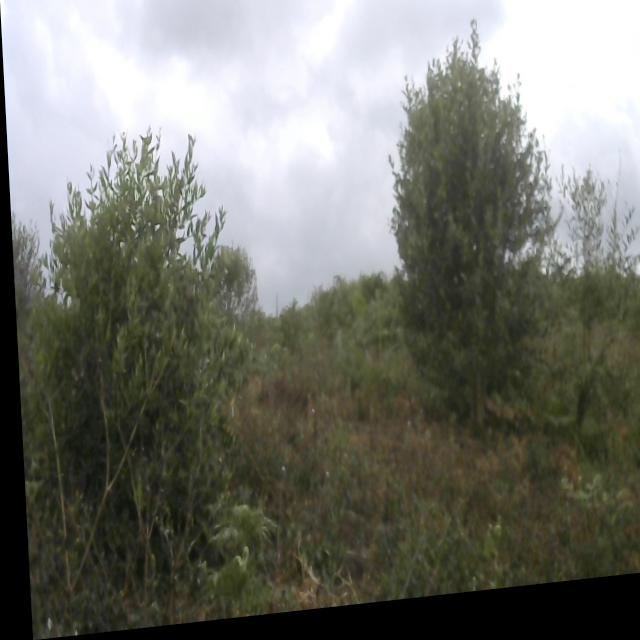Salix alba: (18, 105, 249, 605), (379, 6, 569, 441)
